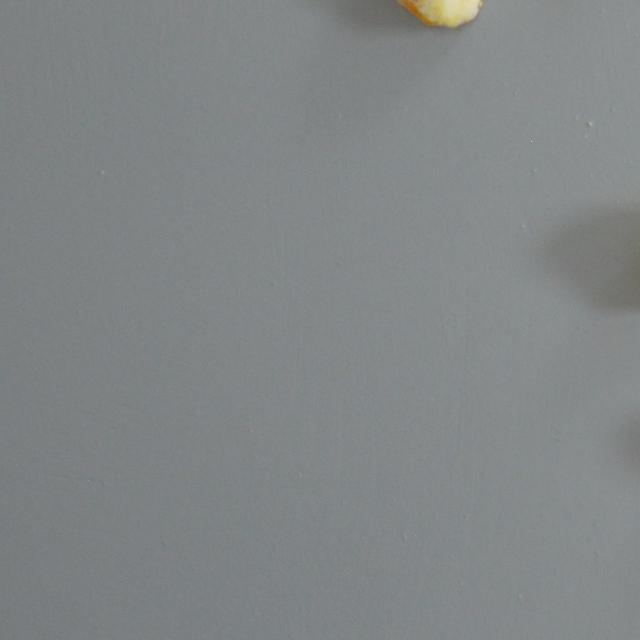pelicula: (367, 0, 484, 30)
